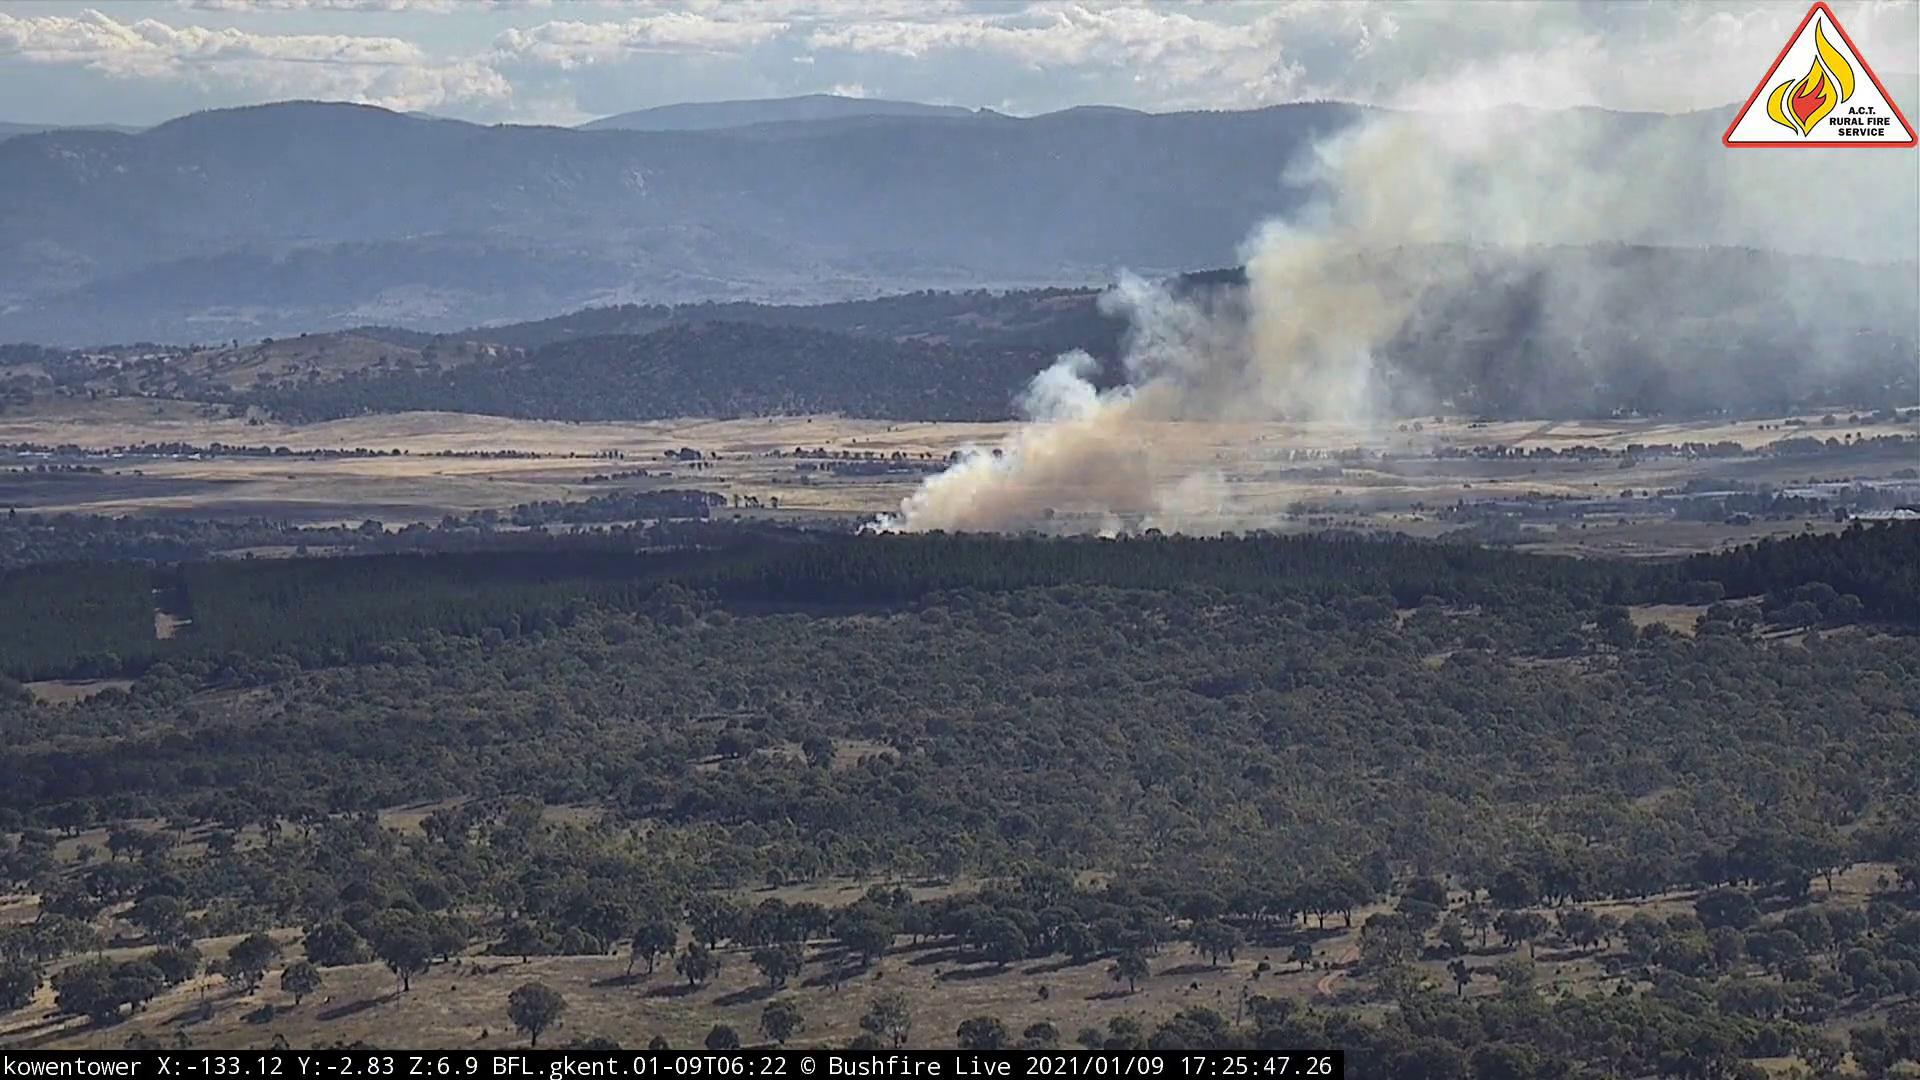Smoke: (849, 42, 1720, 550)
